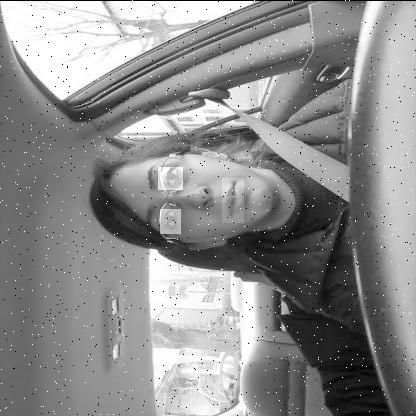seatbelt: (78, 116, 352, 262)
